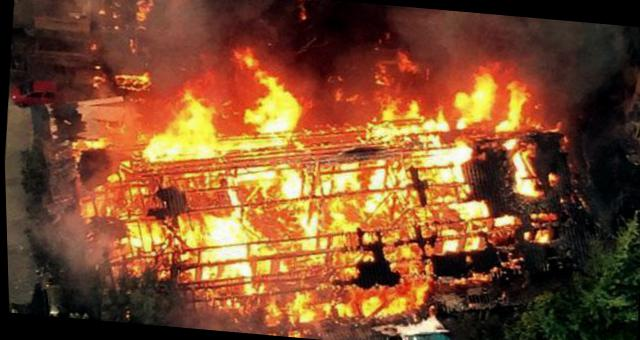fire: (164, 90, 219, 164), (325, 282, 411, 318), (445, 68, 498, 126), (243, 87, 303, 134), (173, 210, 238, 249), (493, 78, 529, 134), (409, 138, 470, 168), (507, 145, 538, 196), (215, 129, 284, 150), (321, 194, 360, 231), (123, 219, 163, 254), (282, 284, 317, 322), (364, 118, 422, 140), (383, 240, 418, 274), (273, 160, 303, 198), (416, 162, 462, 186), (236, 158, 279, 182), (76, 186, 108, 218), (292, 200, 318, 239), (318, 171, 358, 196), (199, 242, 246, 263), (139, 130, 169, 162), (327, 252, 359, 282), (447, 198, 487, 219), (201, 261, 248, 278), (113, 70, 149, 92), (419, 108, 448, 134), (253, 66, 283, 90), (223, 164, 239, 204), (71, 135, 107, 152), (360, 193, 386, 216), (436, 224, 458, 251), (261, 296, 280, 325), (399, 96, 421, 121), (133, 0, 155, 24), (232, 48, 258, 66), (378, 94, 396, 120), (326, 232, 355, 248), (488, 212, 517, 227), (460, 232, 484, 249), (367, 168, 384, 190), (251, 257, 270, 276), (249, 240, 268, 256), (295, 238, 315, 253), (500, 134, 517, 150), (241, 280, 260, 292)
